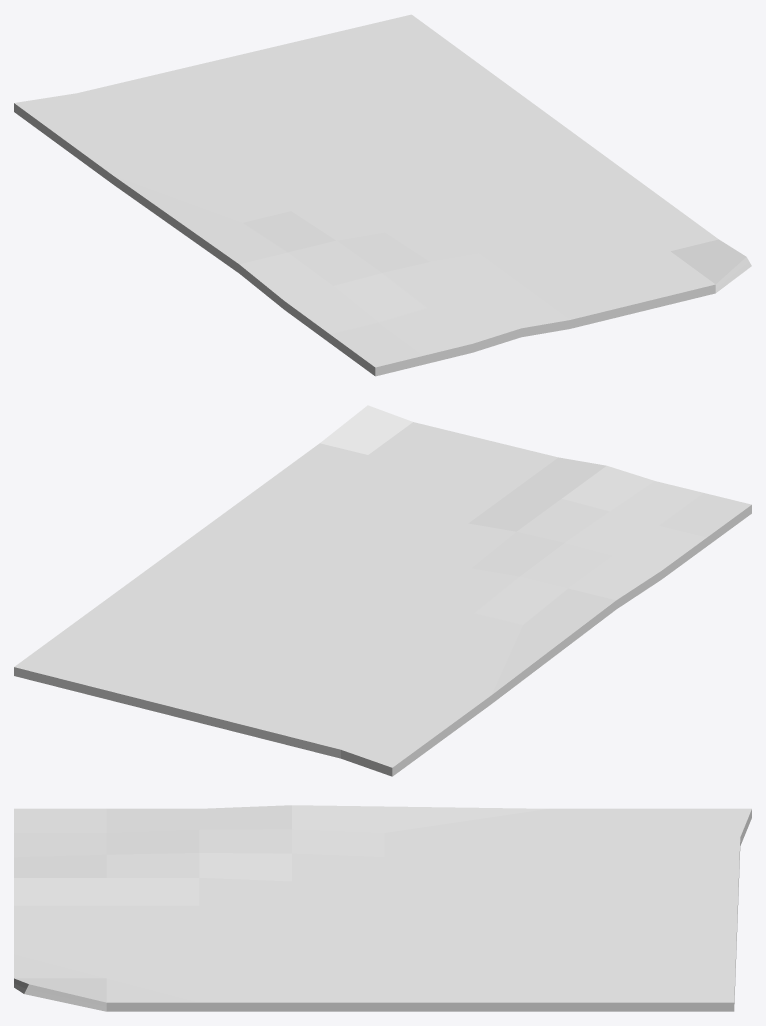
Rendered from paper01.gltf.
3 renders of one model, top to bottom at view 1: azimuth 30°, elevation 25°; view 2: azimuth 150°, elevation 25°; view 3: azimuth 270°, elevation 25°, orthographic. The views are drawn at different scales.
Parts seen in each view (by area): view 1: Cube; view 2: Cube; view 3: Cube.
Part boxes in pixels (bbox=[...]): Cube: bbox=[14, 14, 751, 376]; Cube: bbox=[14, 405, 751, 776]; Cube: bbox=[14, 805, 751, 1011].
Size of the model in its own units: 0.1537 by 0.00828 by 0.2474.
1 material, 1 textured.
